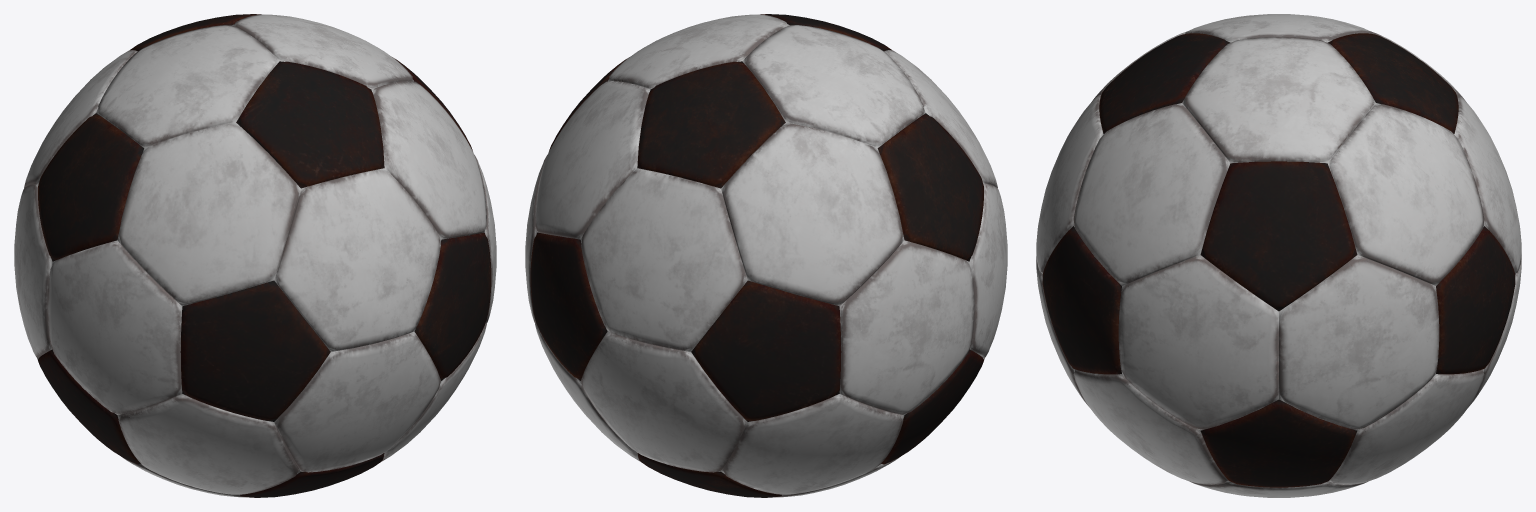
The model's file is football.obj.
The picture shows the model from 3 angles, left to right: view 1: azimuth 30°, elevation 25°; view 2: azimuth 150°, elevation 25°; view 3: azimuth 270°, elevation 25°; orthographic projection.
Visible parts, largest first — view 1: Hedra2_Standardmaterial_0; view 2: Hedra2_Standardmaterial_0; view 3: Hedra2_Standardmaterial_0.
Part boxes in pixels (x1=…): Hedra2_Standardmaterial_0: x1=14, y1=14, x2=496, y2=497; Hedra2_Standardmaterial_0: x1=525, y1=14, x2=1007, y2=497; Hedra2_Standardmaterial_0: x1=1036, y1=14, x2=1521, y2=497.
Size of the model in its own units: 1.12 by 1.12 by 1.12.
Materials: 1 (1 with a texture image).
